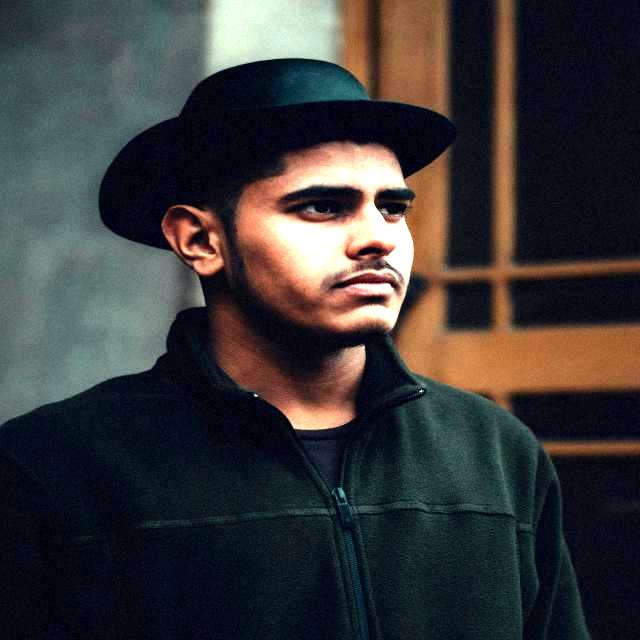no_hard_hat: (99, 55, 457, 251)
person: (0, 142, 599, 640)
